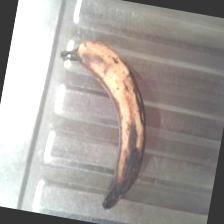Banana Rotten: (43, 28, 168, 190)
